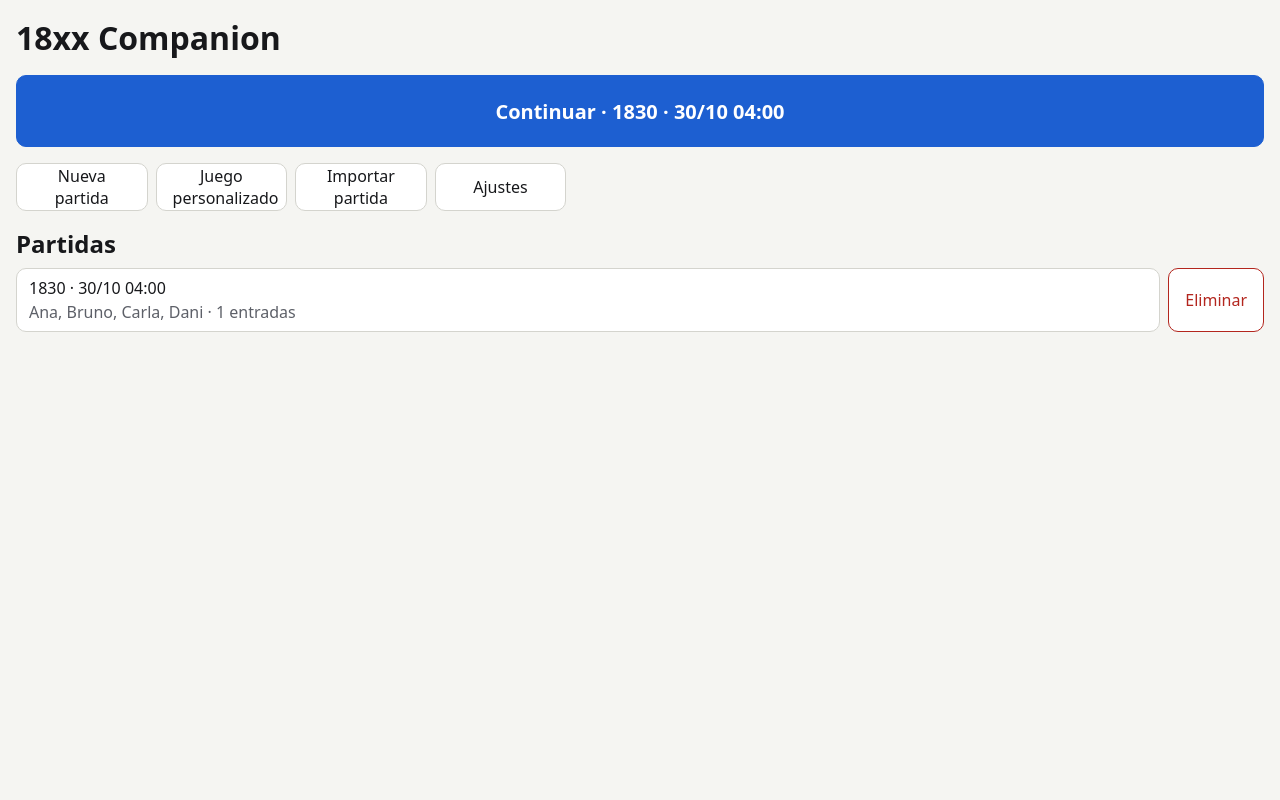
Scenario: voice (US5) › offline
Click the button "Continuar · 1830 · 30/10 04:00" at (640, 111), box [16,75,1264,147]
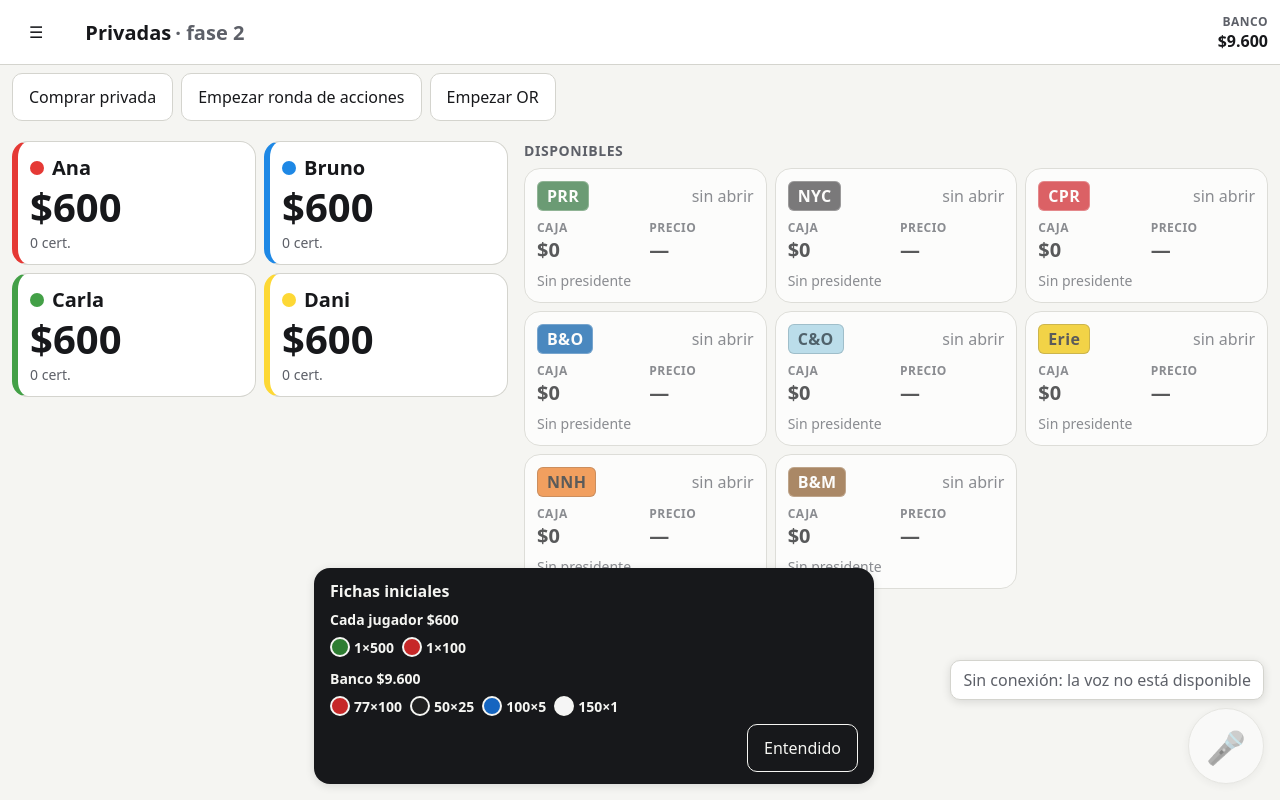
Now the button named "Menú" is shown, box [12,8,60,56]
Now the text "Sin conexión: la voz no está disponible" is shown, box [950,660,1264,700]
